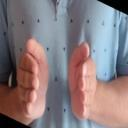hand: (17, 39, 49, 120), (67, 41, 97, 119)
